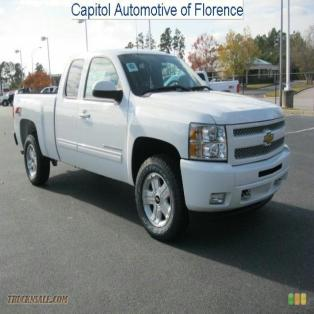Auto: (10, 47, 293, 240)
